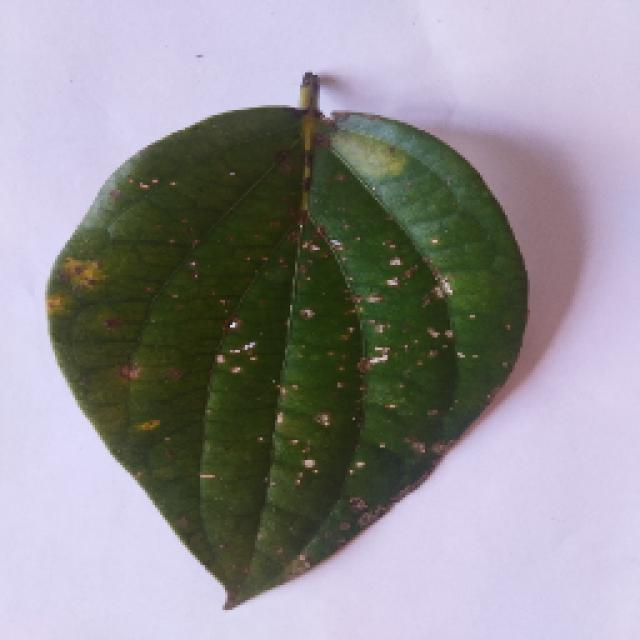pollu-disease: (35, 78, 553, 610)
